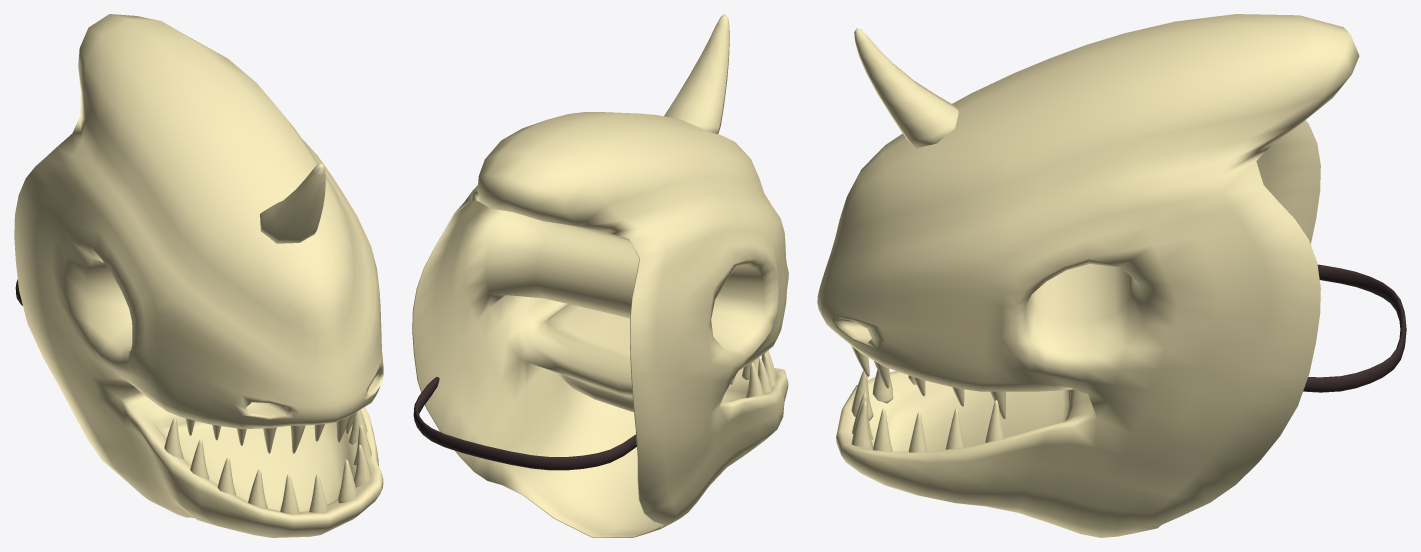
Rendered from cabecaDinoInimigo.fbx.
The picture shows the model from 3 angles, left to right: view 1: azimuth 30°, elevation 25°; view 2: azimuth 150°, elevation 25°; view 3: azimuth 270°, elevation 25°; orthographic projection. The views are drawn at different scales.
Parts seen in each view (by area): view 1: Cube.001; view 2: Cube.001; view 3: Cube.001.
Boxes of the visible parts, x1,y1,x2,y2 form: Cube.001: [14, 14, 383, 537]; Cube.001: [412, 14, 788, 537]; Cube.001: [817, 14, 1406, 537].
Size of the model in its own units: 43.2 by 73.76 by 78.35.
